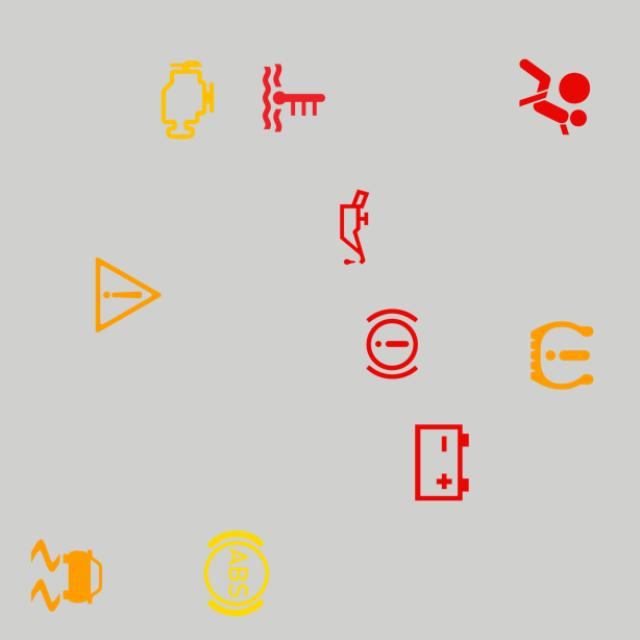Anti Lock Braking System: (190, 526, 284, 620)
Braking System Issue: (345, 297, 439, 391)
Charging System Issue: (395, 416, 489, 510)
Check Engine: (140, 53, 234, 147)
Electronic Stability Problem -ESP-: (20, 528, 114, 622)
Engine Overheating Warning Light: (247, 51, 341, 145)
Low Engine Oil Warning Light: (308, 180, 402, 274)
Low Tire Pressure Warning Light: (515, 308, 609, 402)
Master warning light: (81, 248, 175, 342)
SRS-Airbag: (508, 50, 602, 144)
